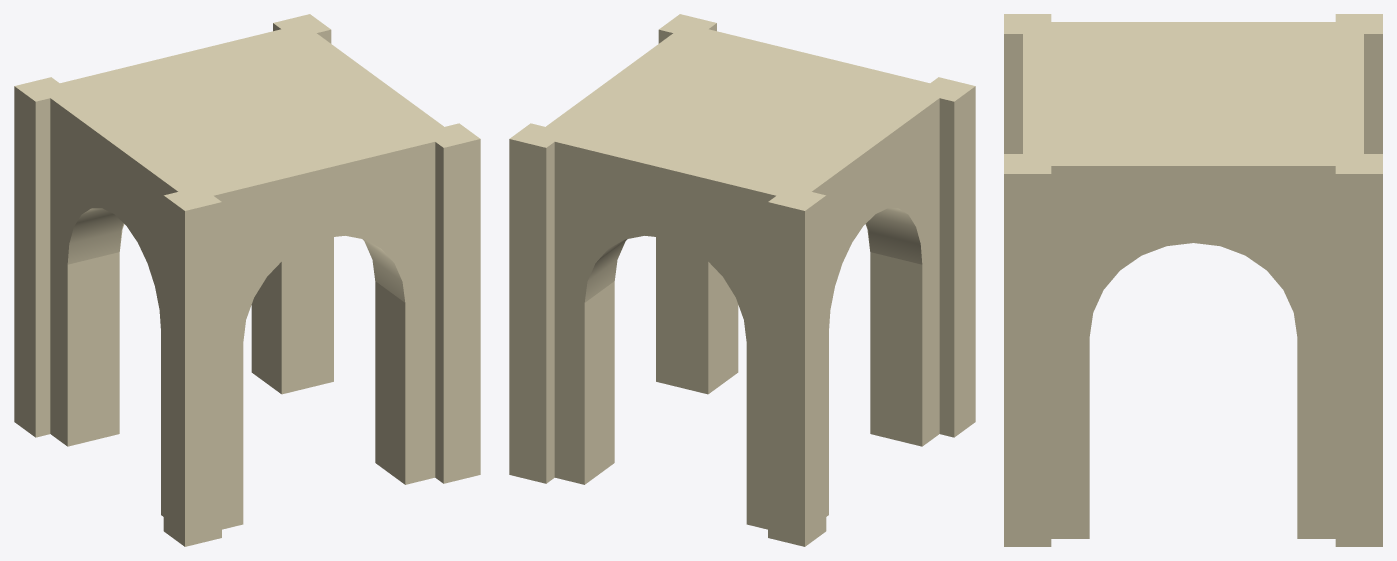
The model's file is towerSquareArch.fbx.
3 views of the same model, side by side, from view 1: azimuth 30°, elevation 25°; view 2: azimuth 150°, elevation 25°; view 3: azimuth 270°, elevation 25° (orthographic). The views are drawn at different scales.
Parts seen in each view (by area): view 1: towerSquareArch; view 2: towerSquareArch; view 3: towerSquareArch.
Part boxes in pixels (bbox=[...]): towerSquareArch: bbox=[14, 14, 480, 546]; towerSquareArch: bbox=[509, 14, 975, 546]; towerSquareArch: bbox=[1004, 14, 1382, 546].
Size of the model in its own units: 9.3 by 10.1 by 9.3.
